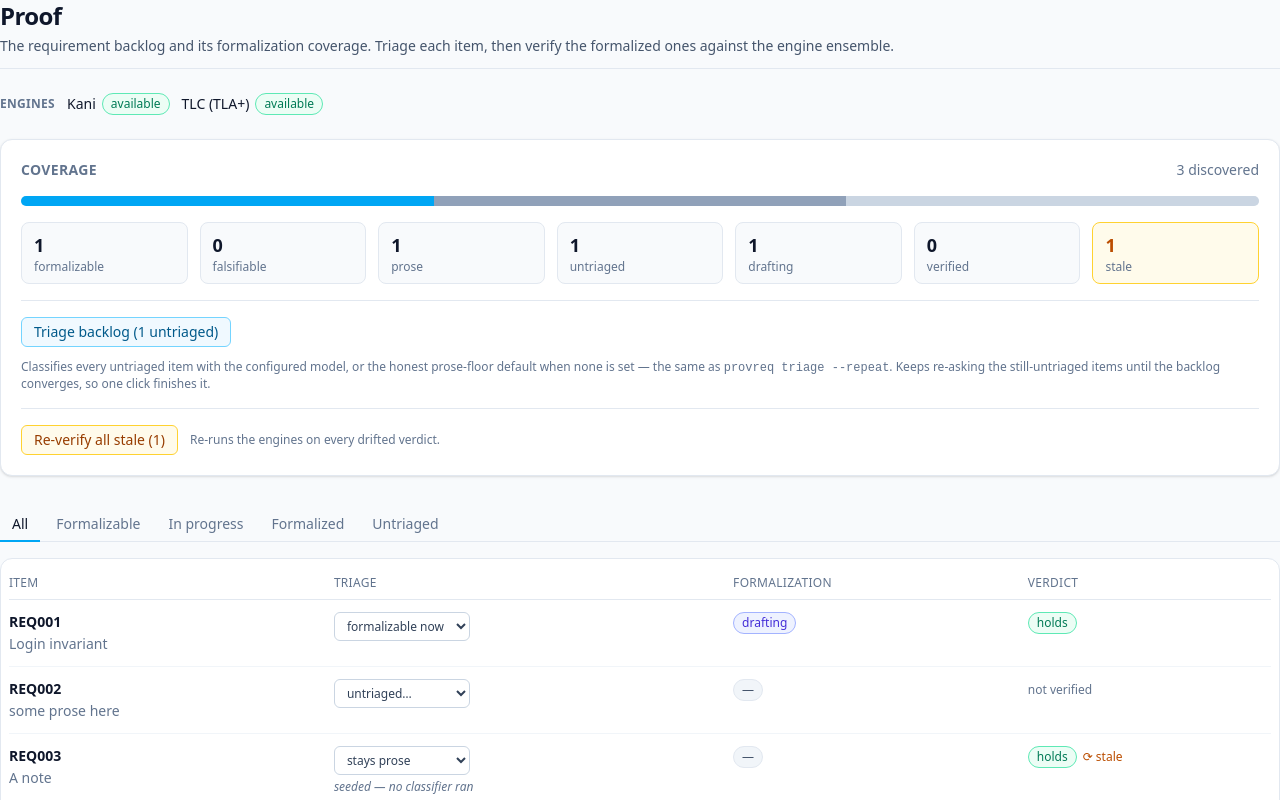
it: ProofPage › running Verify shows the verdict with per-engine evidence
Click the button "REQ001" at {"x": 35, "y": 622}, box [9,612,61,632]
(page scrolled)
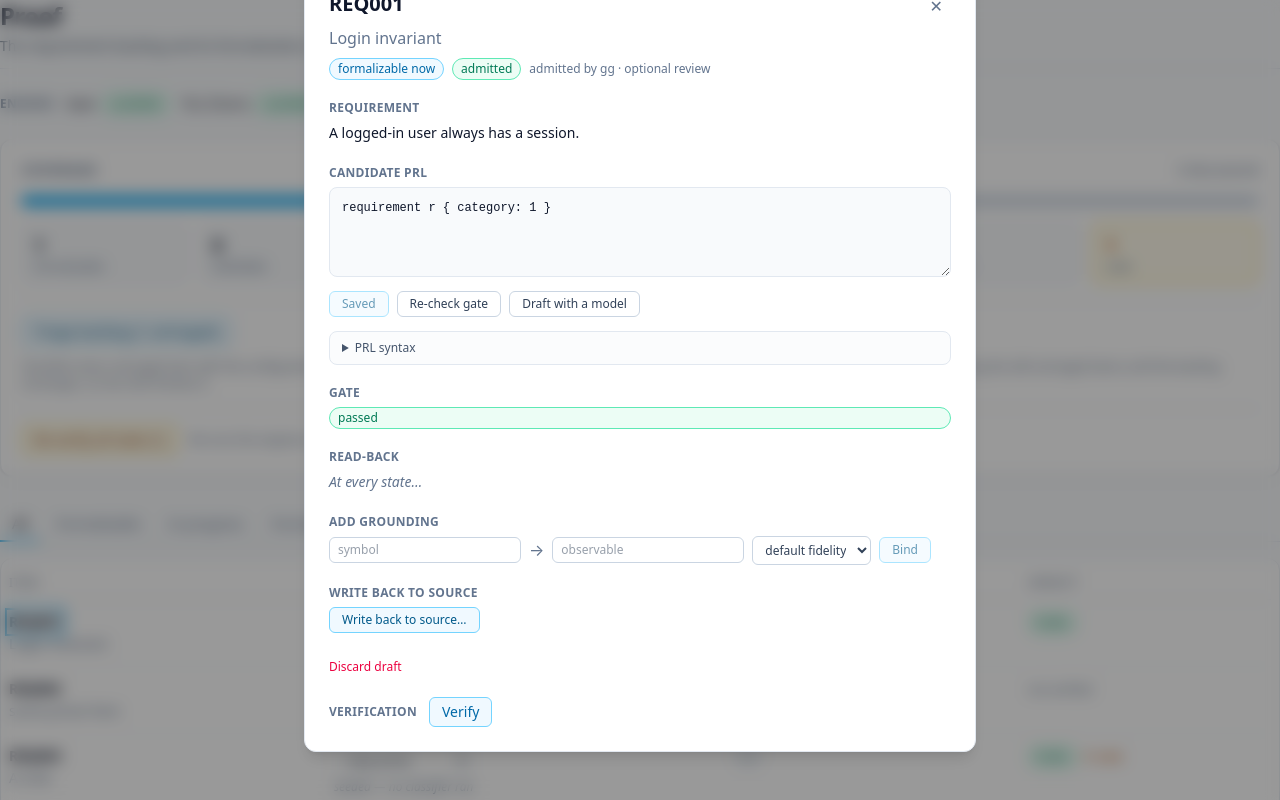
Click the button "Verify" at {"x": 461, "y": 712}, box [429,696,492,726]
(page scrolled)
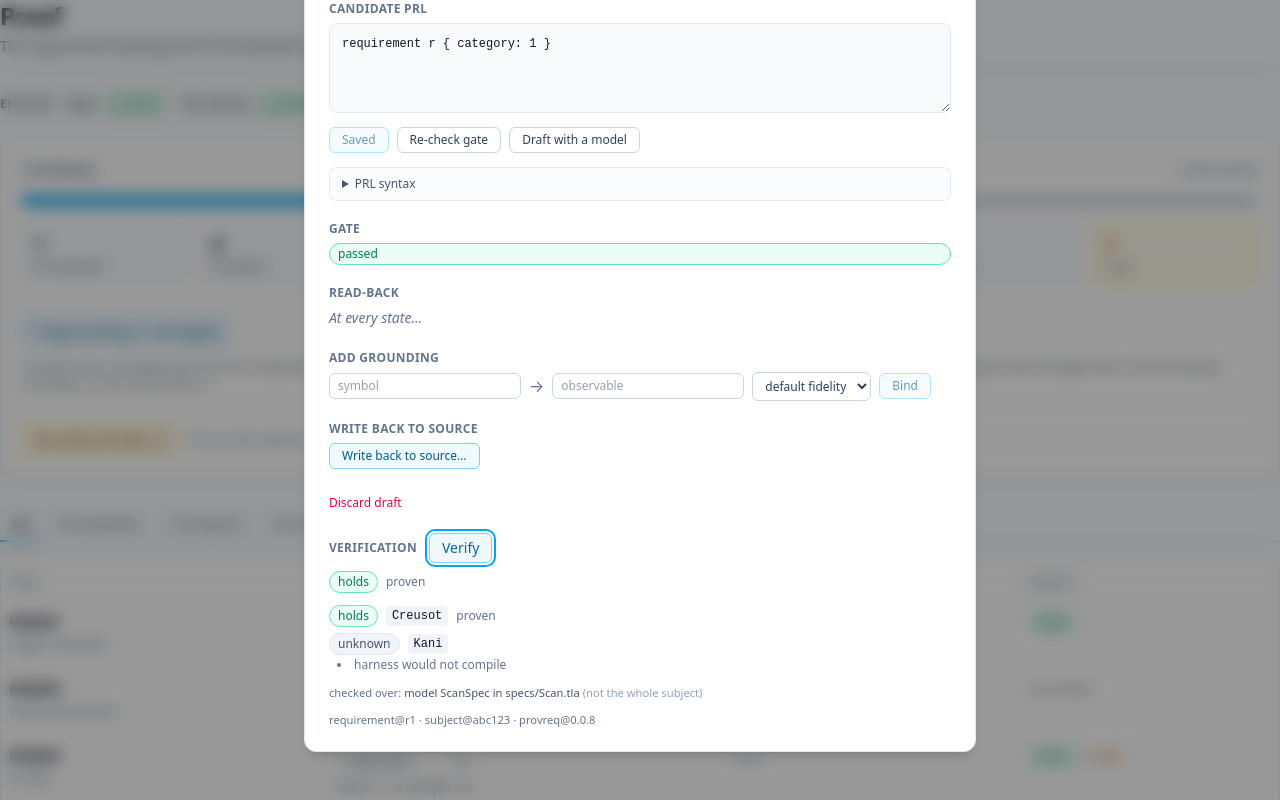
Result: the text "holds" is shown 2 times at [329,570,378,592]; [329,604,378,626]
Result: the text "Creusot" is shown at [386,606,448,626]
Result: the text "Kani" is shown at [408,634,448,654]
